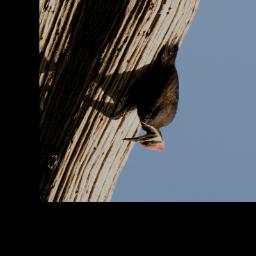Woodpecker: (103, 29, 210, 153)
